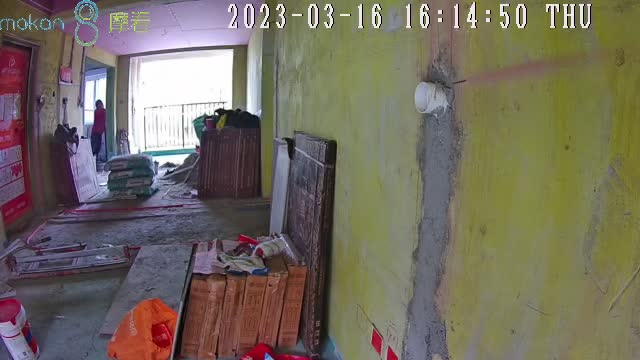people: (88, 99, 106, 162)
window: (135, 53, 231, 153), (83, 71, 107, 125)
